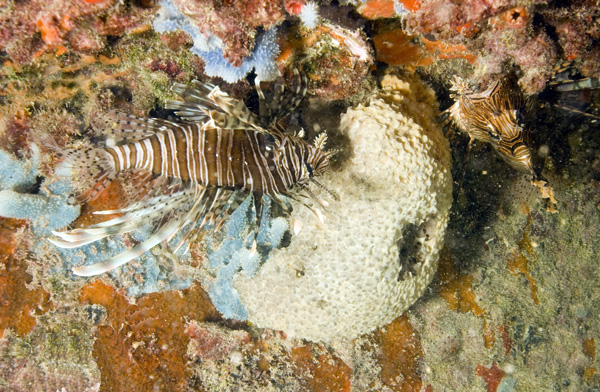Pterois_volitans: (46, 85, 346, 242)
